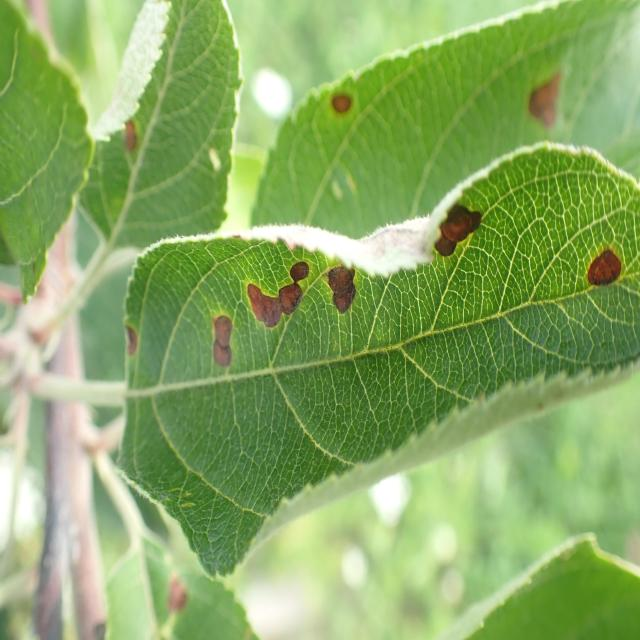frog-eye-leaf-spot: (112, 142, 640, 582), (248, 1, 640, 240), (78, 3, 244, 245)
